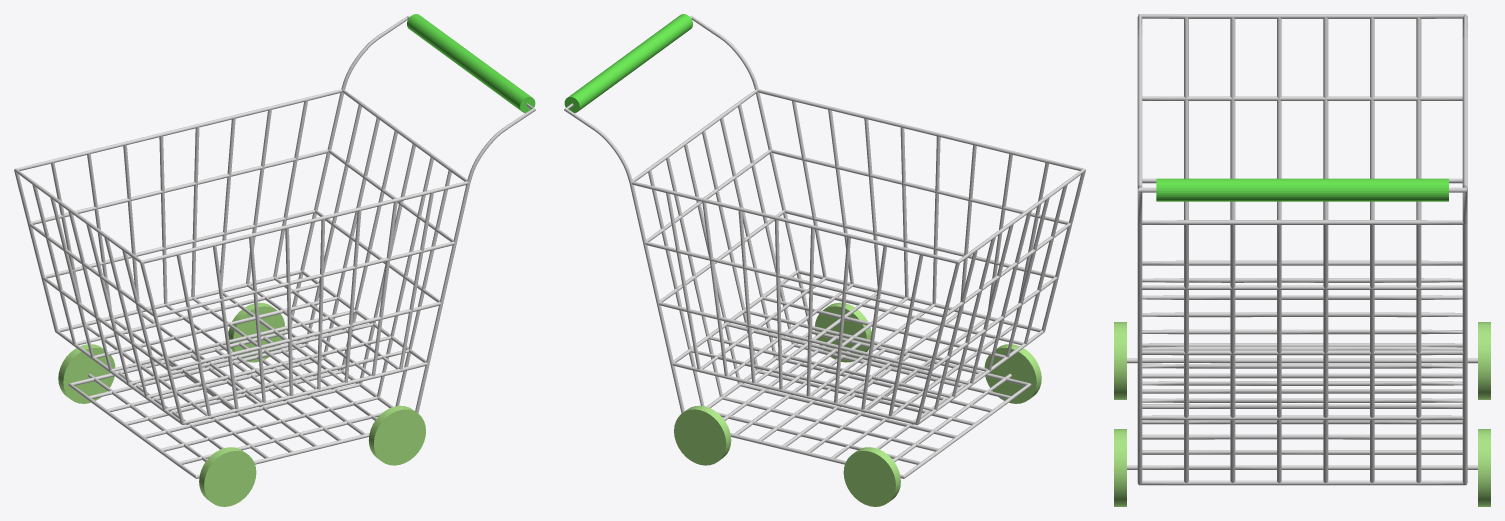
File: shoppingcart.fbx
The picture shows the model from 3 angles, left to right: view 1: azimuth 30°, elevation 25°; view 2: azimuth 150°, elevation 25°; view 3: azimuth 270°, elevation 25°; orthographic projection. The views are drawn at different scales.
Visible parts, largest first — view 1: cart, Cylinder, Circle, Circle.003, Circle.001, Circle.002; view 2: cart, Cylinder, Circle.002, Circle.001, Circle, Circle.003; view 3: cart, Cylinder, Circle, Circle.001, Circle.002, Circle.003.
Part boxes in pixels (bbox=[...]): cart: bbox=[14, 16, 535, 478]; Cylinder: bbox=[407, 14, 535, 113]; Circle: bbox=[199, 447, 256, 506]; Circle.003: bbox=[368, 405, 425, 465]; Circle.001: bbox=[58, 344, 115, 403]; Circle.002: bbox=[228, 302, 284, 362]; cart: bbox=[564, 16, 1085, 478]; Cylinder: bbox=[564, 14, 692, 113]; Circle.002: bbox=[674, 405, 731, 465]; Circle.001: bbox=[843, 447, 900, 506]; Circle: bbox=[984, 344, 1041, 403]; Circle.003: bbox=[815, 302, 871, 362]; cart: bbox=[1127, 14, 1477, 485]; Cylinder: bbox=[1156, 178, 1448, 201]; Circle: bbox=[1114, 322, 1126, 399]; Circle.001: bbox=[1478, 322, 1490, 399]; Circle.002: bbox=[1478, 429, 1490, 506]; Circle.003: bbox=[1114, 429, 1126, 506].
Bounding box in the file's own units: 368 × 281 × 232.
